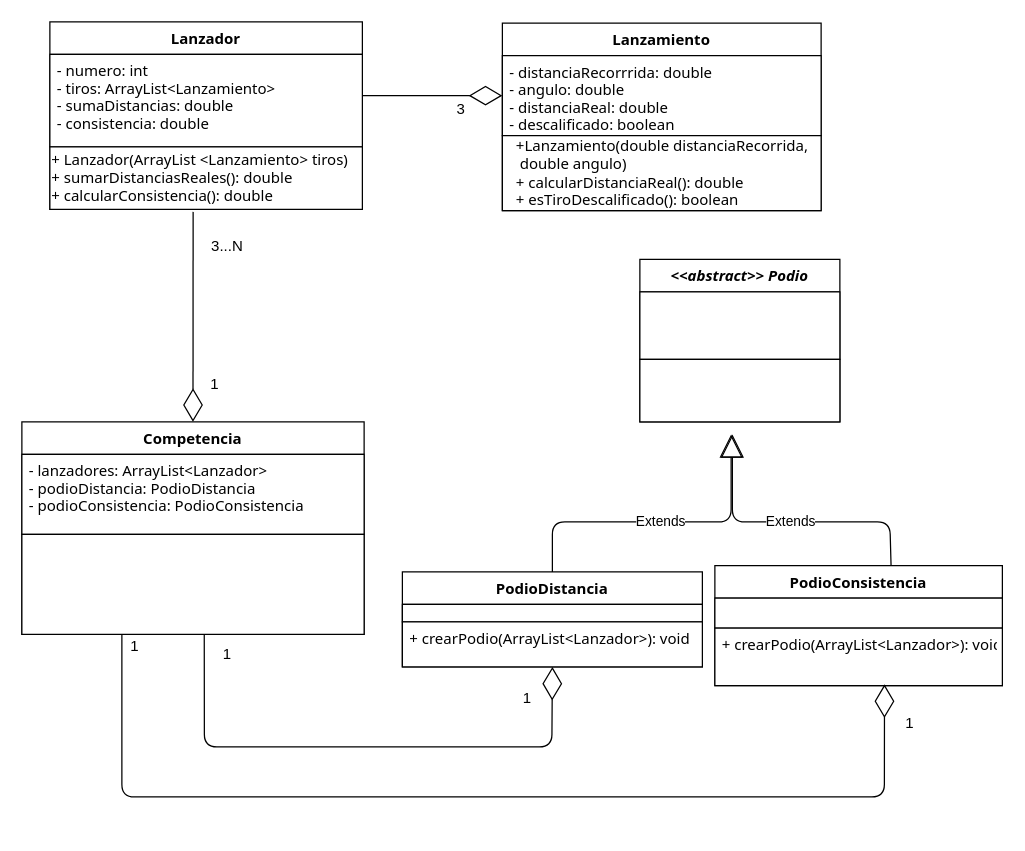
This 1025x851 diagram has some shape labels left out. The centre of each missing label's shape, as x and y in pixels:
+ crearPodio(): the point at 739,390
+ generarPodioConsistencia(): void + generarPodioDistancia(): void: the point at 192,583
- primerPuesto: int - segundoPuesto: int - tercerPuesto: int: the point at 739,325
